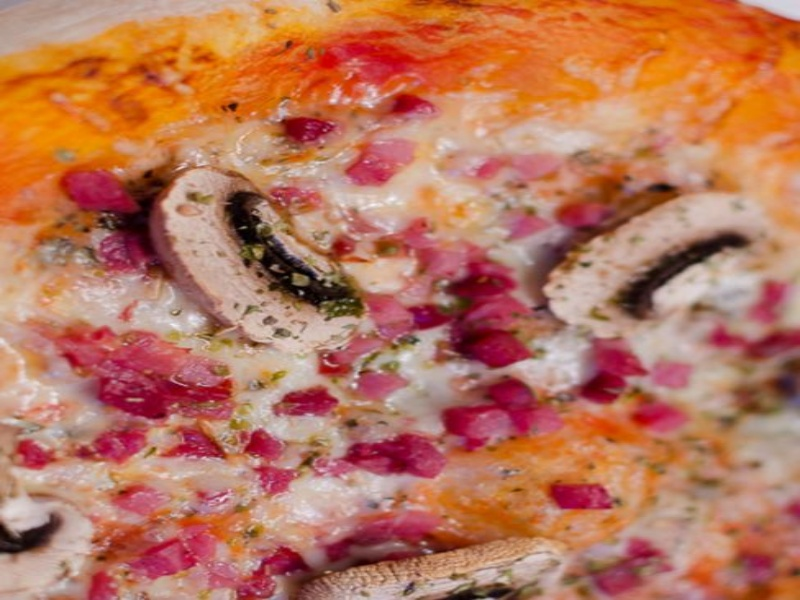champignon: (140, 161, 374, 362), (533, 189, 800, 350)
